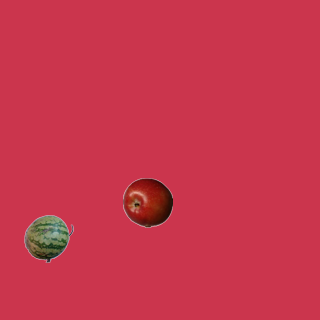Apple Braeburn: (122, 177, 172, 227)
Watermelon: (23, 213, 73, 263)
